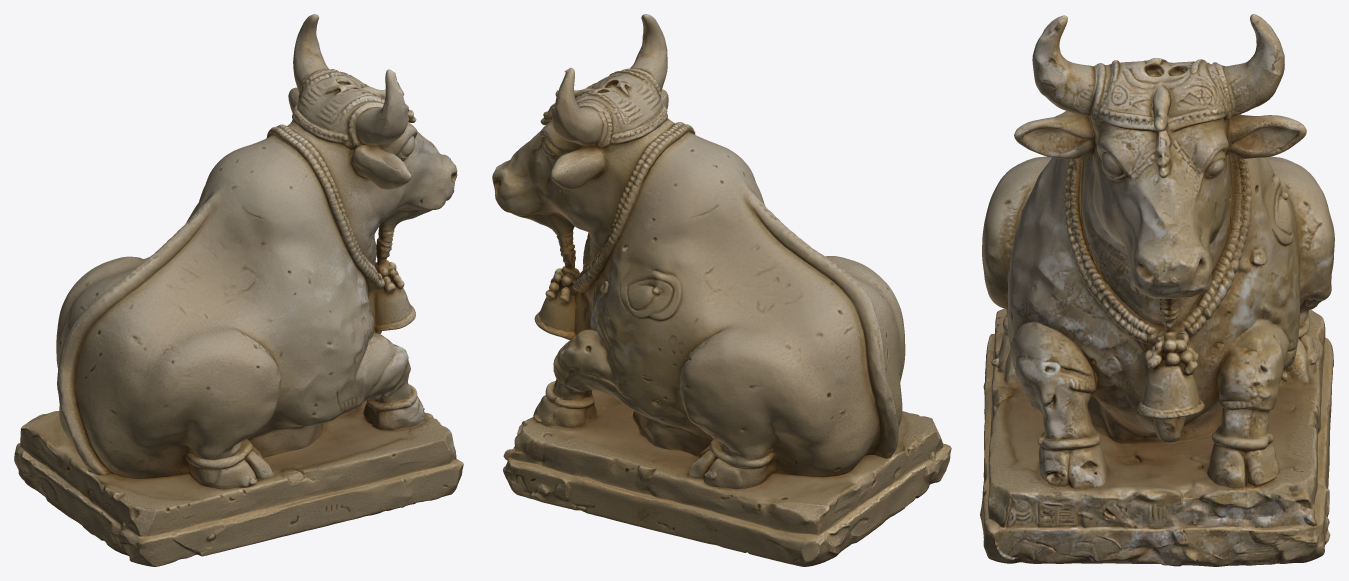
Rendered from sacred-nandi-bull-statue-seated-with-its-cmvij6is.glb.
3 views of the same model, side by side, from view 1: azimuth 30°, elevation 25°; view 2: azimuth 150°, elevation 25°; view 3: azimuth 270°, elevation 25° (orthographic). The views are drawn at different scales.
Visible parts, largest first — view 1: tripo_node_86295cc9-fb60-4ccf-8d8d-9fbdd05bf6ca; view 2: tripo_node_86295cc9-fb60-4ccf-8d8d-9fbdd05bf6ca; view 3: tripo_node_86295cc9-fb60-4ccf-8d8d-9fbdd05bf6ca.
Boxes of the visible parts, x1,y1,x2,y2 form: tripo_node_86295cc9-fb60-4ccf-8d8d-9fbdd05bf6ca: (14, 14, 463, 566); tripo_node_86295cc9-fb60-4ccf-8d8d-9fbdd05bf6ca: (492, 14, 951, 566); tripo_node_86295cc9-fb60-4ccf-8d8d-9fbdd05bf6ca: (980, 14, 1334, 566).
Bounding box in the file's own units: 1 × 0.9998 × 0.6124.
Materials: 1 (1 with a texture image).
